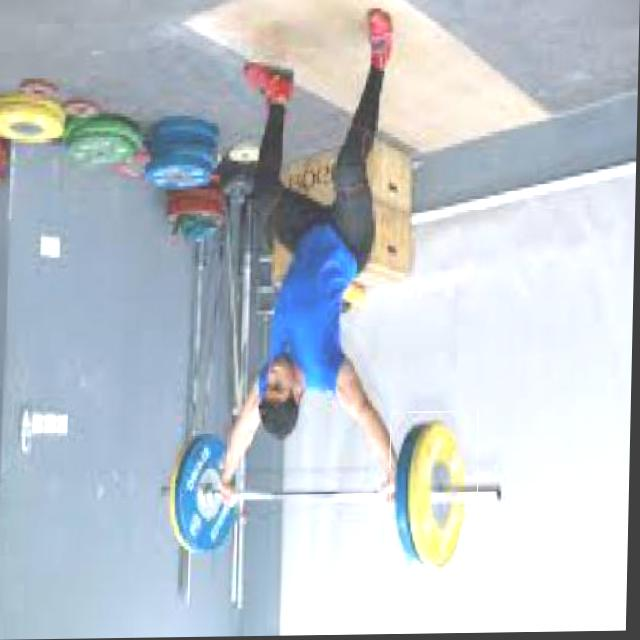barbell: (391, 413, 482, 584)
